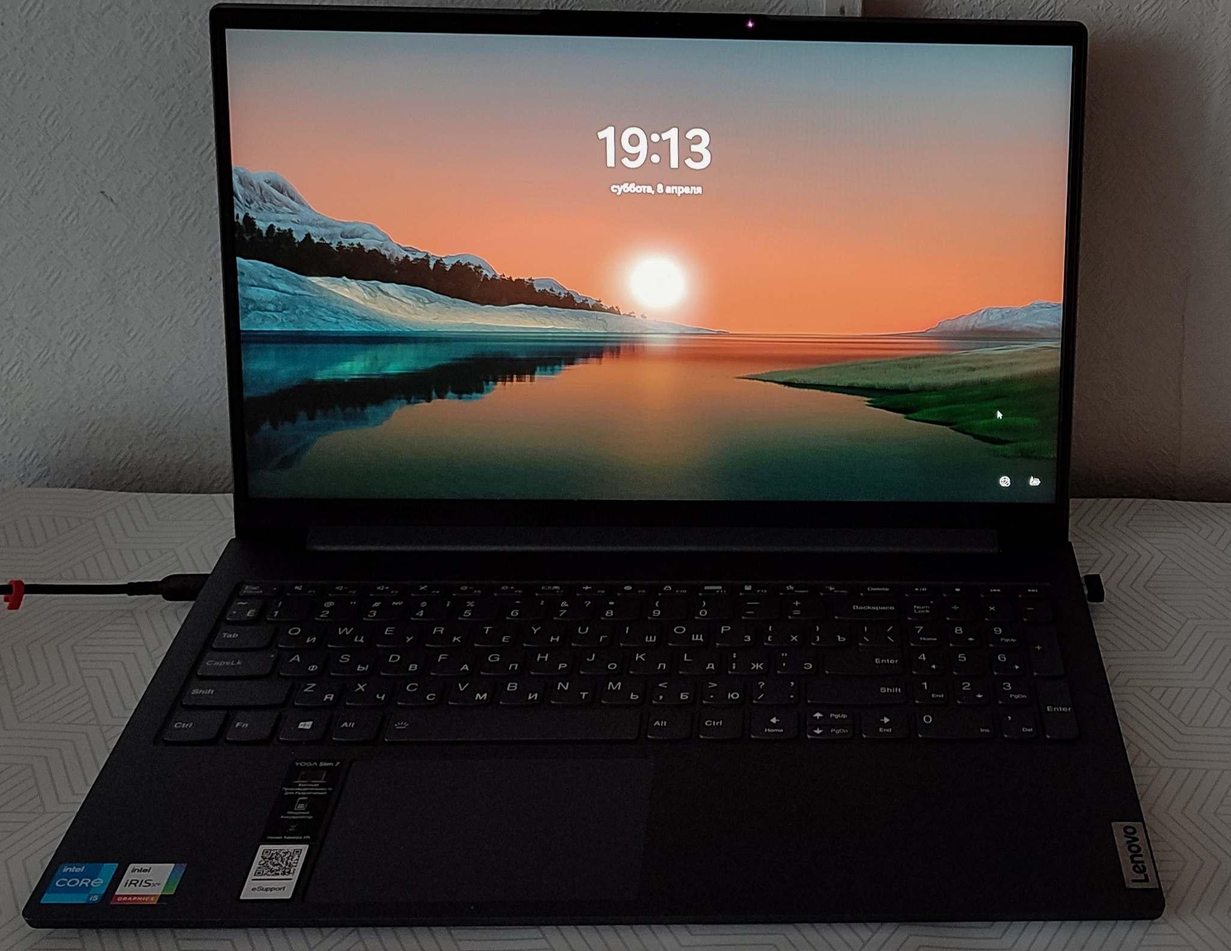monitor: (205, 2, 1092, 554)
